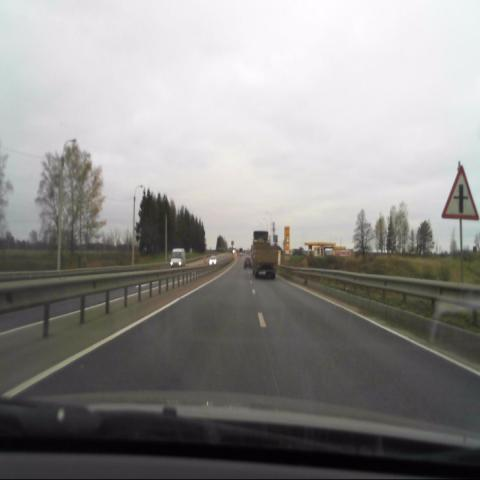2_3: (442, 162, 480, 221)
